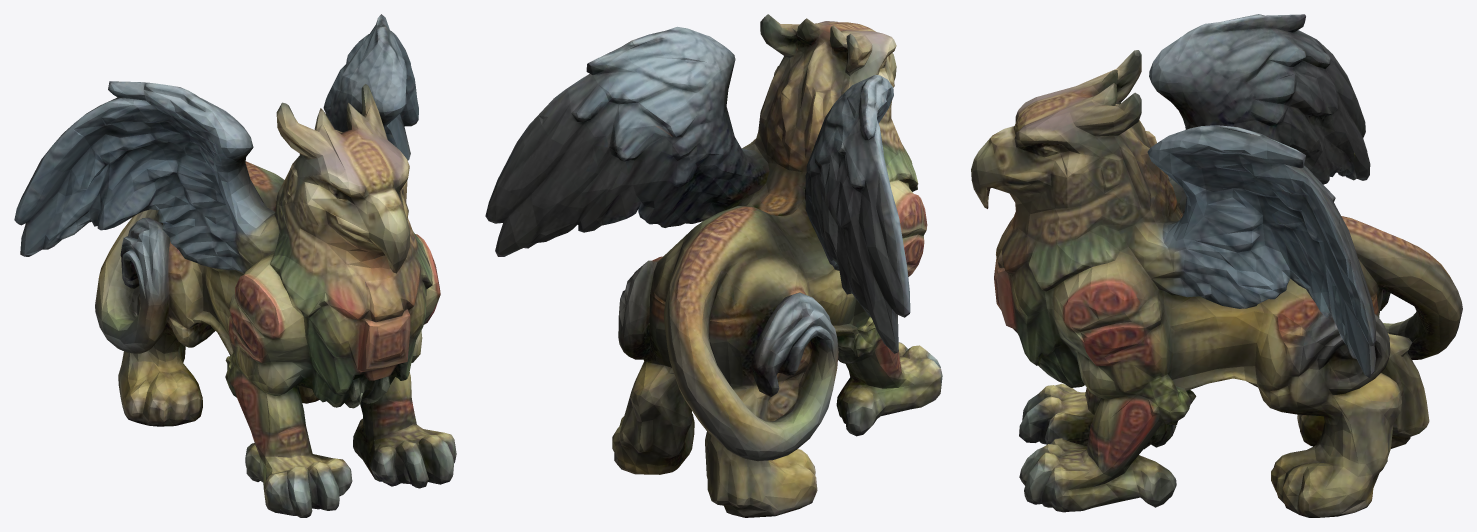
The model's file is skyrend.glb.
3 views of the same model, side by side, from view 1: azimuth 30°, elevation 25°; view 2: azimuth 150°, elevation 25°; view 3: azimuth 270°, elevation 25° (orthographic). The views are drawn at different scales.
Visible parts, largest first — view 1: world; view 2: world; view 3: world.
Part boxes in pixels (left/top/right/bottom): world: left=14, top=14, right=456, bottom=517; world: left=485, top=14, right=942, bottom=517; world: left=971, top=14, right=1462, bottom=517.
Bounding box in the file's own units: 0.7703 × 0.6853 × 0.7533.
1 material, 1 textured.
